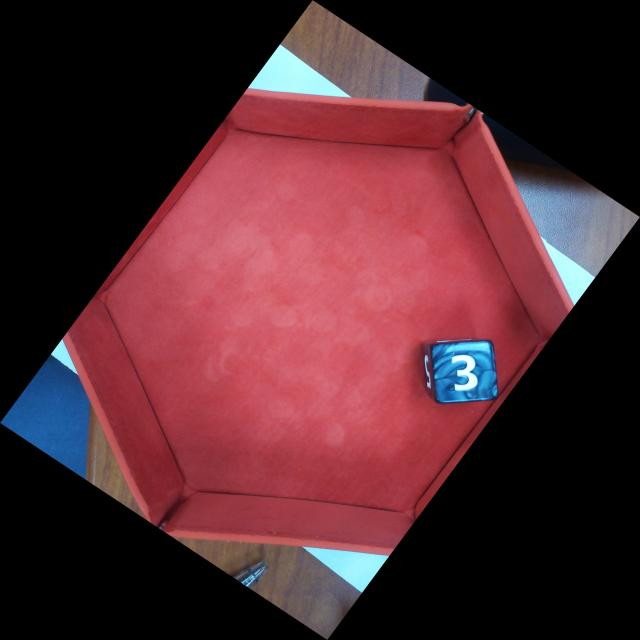dice: (432, 341, 500, 404)
